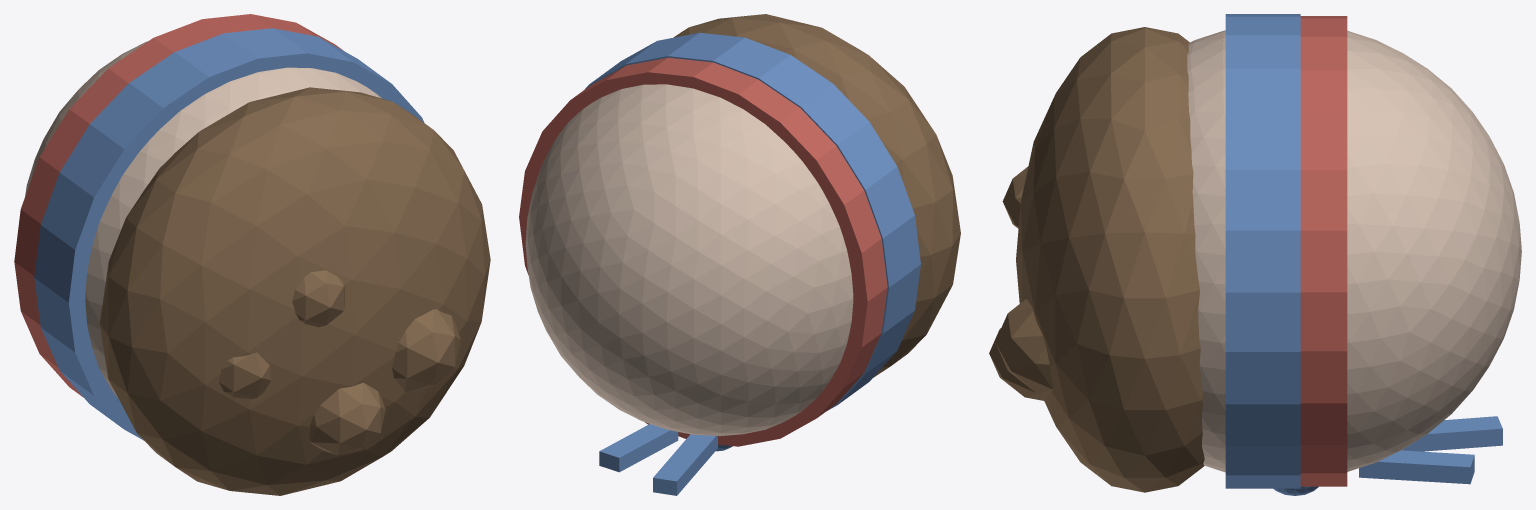
The model's file is windman_head.glb.
3 renders of one model, left to right at view 1: azimuth 30°, elevation 25°; view 2: azimuth 150°, elevation 25°; view 3: azimuth 270°, elevation 25°, orthographic. The views are drawn at different scales.
Visible parts, largest first — view 1: geometry_0; view 2: geometry_0; view 3: geometry_0.
Part boxes in pixels (<box>): geometry_0: <box>14,14,490,495</box>; geometry_0: <box>519,14,960,495</box>; geometry_0: <box>989,14,1521,495</box>.
Bounding box in the file's own units: 0.254 × 0.269 × 0.2841.
